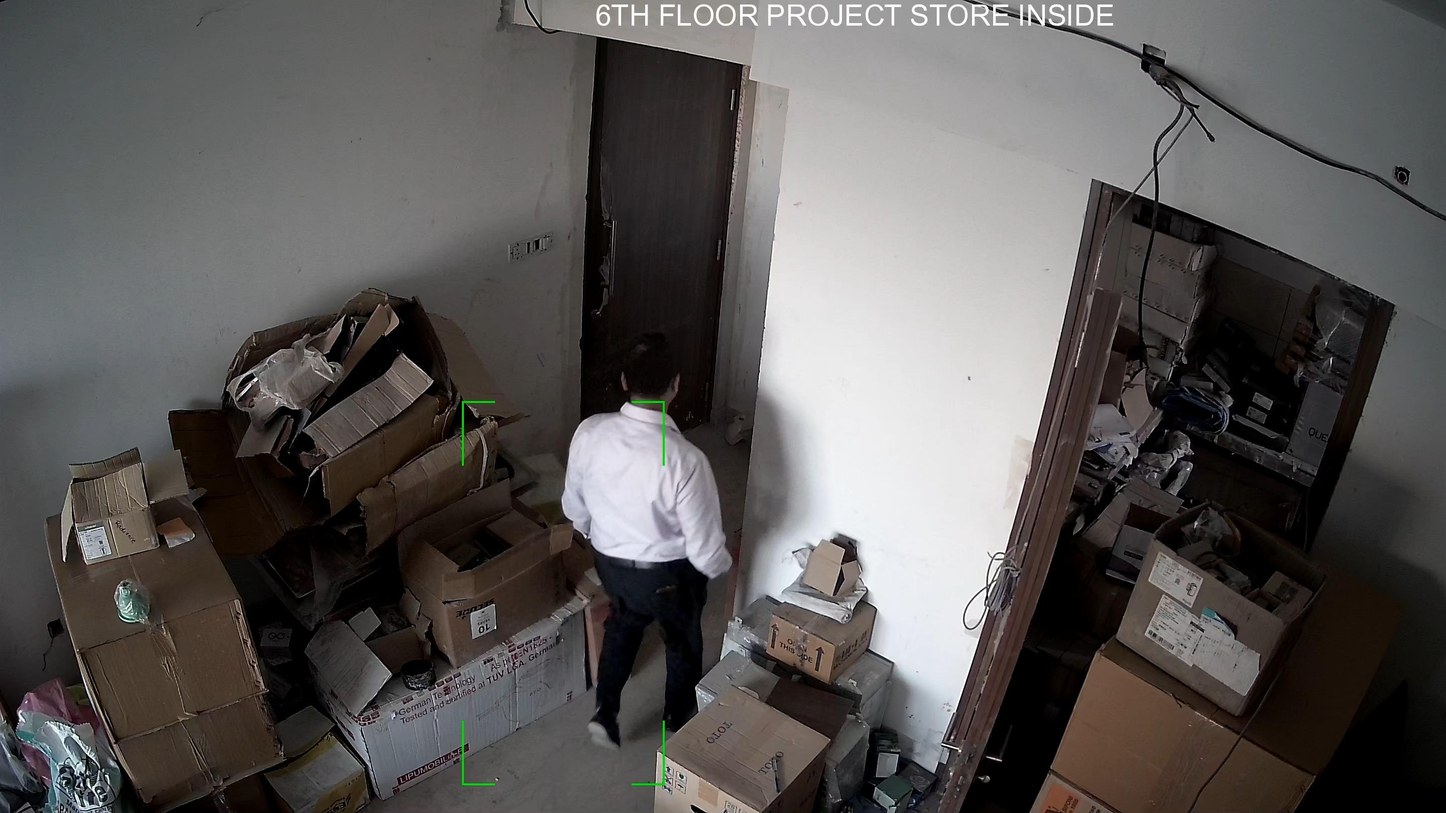Door-Close: (566, 40, 762, 485)
